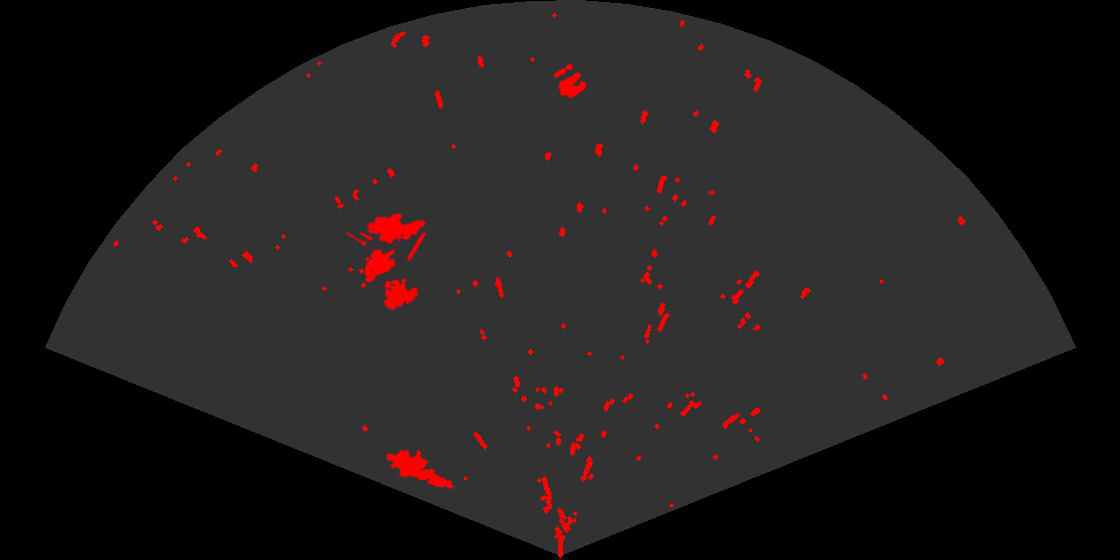AUV: (365, 211, 428, 246)
ball: (552, 62, 588, 100)
cage: (344, 233, 428, 312)
frogman: (387, 448, 455, 490)
